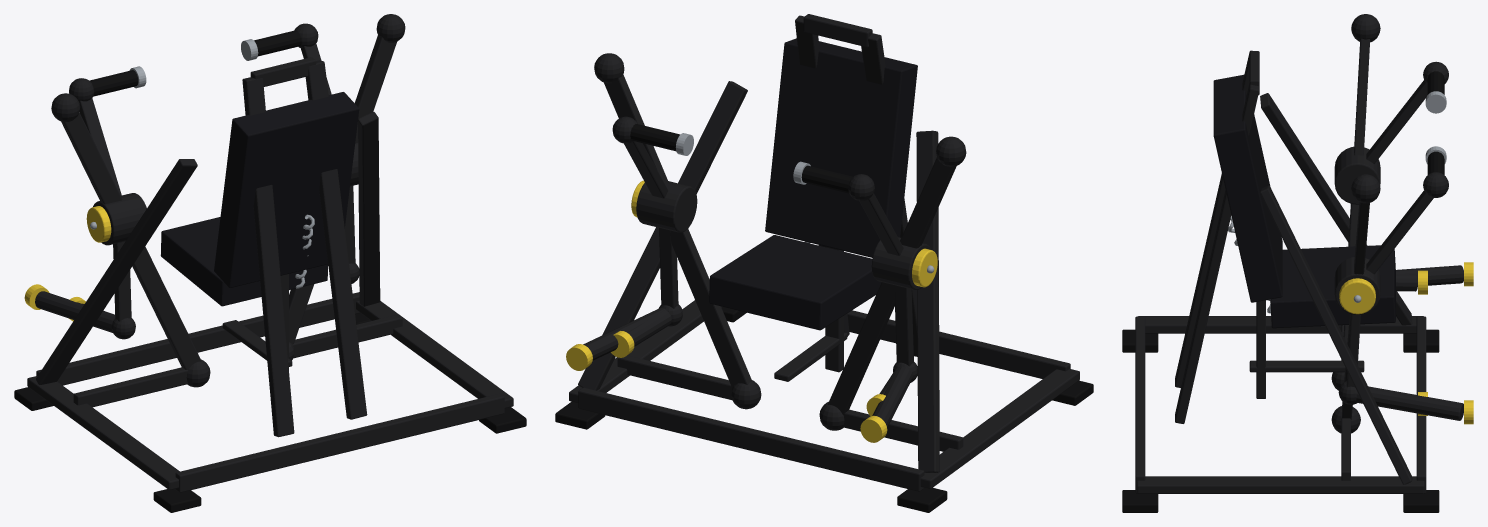
File: chestpress.glb
The picture shows the model from 3 angles, left to right: view 1: azimuth 30°, elevation 25°; view 2: azimuth 150°, elevation 25°; view 3: azimuth 270°, elevation 25°; orthographic projection. The views are drawn at different scales.
Visible parts, largest first — view 1: Cube.014, Cube.003, Cube.008, Cube.009, Cube.011, Cube.013, Cube.018, Cube.002, Cube.012, Cube, Cube.001, Cube.022 (+16 smaller); view 2: Cube.014, Cube.013, Cube.002, Cube.011, Cube.012, Cube.018, Cube.022, Cube, Cube.003, Cylinder.008, Cube.021, Cube.001 (+23 smaller); view 3: Cube.014, Cube.013, Cube.001, Cube.012, Cube.009, Cube, Cube.011, Cube.008, Cube.003, Cylinder.012, Cube.018, Cube.002 (+20 smaller).
Boxes of the visible parts, x1,y1,x2,y2 form: Cube.014: (214,92,359,287); Cube.003: (175,393,504,492); Cube.008: (242,77,294,437); Cube.009: (305,60,367,419); Cube.011: (36,159,197,384); Cube.013: (160,217,327,306); Cube.018: (61,112,201,369); Cube.002: (36,292,360,385); Cube.012: (358,111,380,306); Cube: (27,376,179,489); Cube.001: (356,300,513,408); Cube.022: (289,35,396,344); Cube.014: (765,38,917,257); Cube.013: (709,235,881,330); Cube.002: (578,387,924,491); Cube.011: (916,130,939,472); Cube.012: (578,81,747,390); Cube.018: (828,157,956,414); Cube.022: (604,74,751,387); Cube: (920,369,1079,488); Cube.003: (847,310,1070,378); Cylinder.008: (636,181,697,232); Cube.021: (617,355,731,399); Cube.001: (569,300,723,402); Cube.014: (1213,74,1282,302); Cube.013: (1270,245,1395,328); Cube.001: (1137,476,1424,493); Cube.012: (1260,185,1412,484); Cube.009: (1175,83,1259,423); Cube: (1137,316,1423,333); Cube.011: (1260,93,1412,325); Cube.008: (1175,50,1252,387); Cube.003: (1135,316,1145,493); Cylinder.012: (1356,386,1463,420); Cube.018: (1343,38,1370,343); Cube.002: (1416,316,1426,493).
Bounding box in the file's own units: 1.27 × 1.22 × 1.07.
